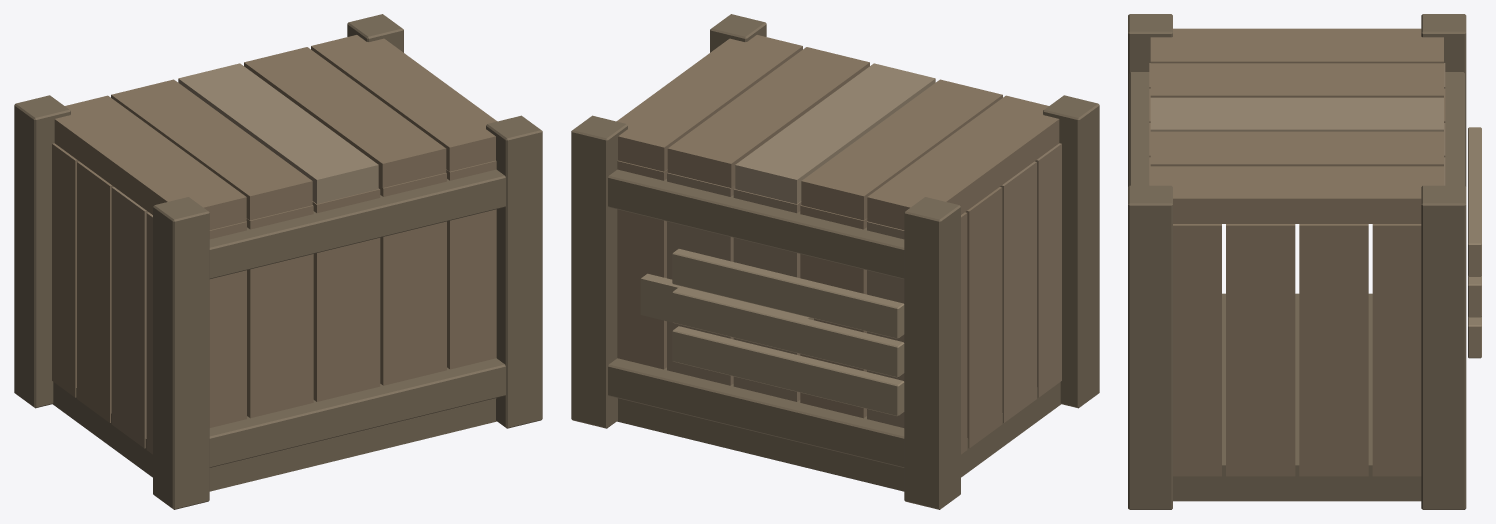
Rendered from env_crate_v05_face_patch.glb.
3 views of the same model, side by side, from view 1: azimuth 30°, elevation 25°; view 2: azimuth 150°, elevation 25°; view 3: azimuth 270°, elevation 25° (orthographic). The views are drawn at different scales.
Parts seen in each view (by area): view 1: material_0, material_2, material_1, material_5; view 2: material_2, material_0, material_6, material_5, material_1; view 3: material_0, material_2, material_1, material_6.
Part boxes in pixels (x1,y1,x2,y2): material_0: (52, 35, 497, 467); material_2: (14, 14, 542, 509); material_1: (178, 63, 378, 203); material_5: (111, 187, 152, 454); material_2: (571, 14, 1099, 509); material_0: (616, 35, 1059, 457); material_6: (640, 249, 904, 416); material_5: (667, 143, 1061, 467); material_1: (735, 63, 935, 203); material_0: (1149, 28, 1445, 476); material_2: (1128, 14, 1466, 509); material_1: (1150, 97, 1443, 131); material_6: (1468, 127, 1481, 358).
Bounding box in the file's own units: 0.8 × 0.6 × 0.6275.
